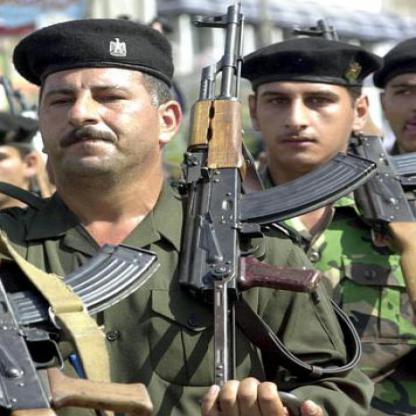face: (31, 33, 165, 177), (254, 50, 353, 166)
